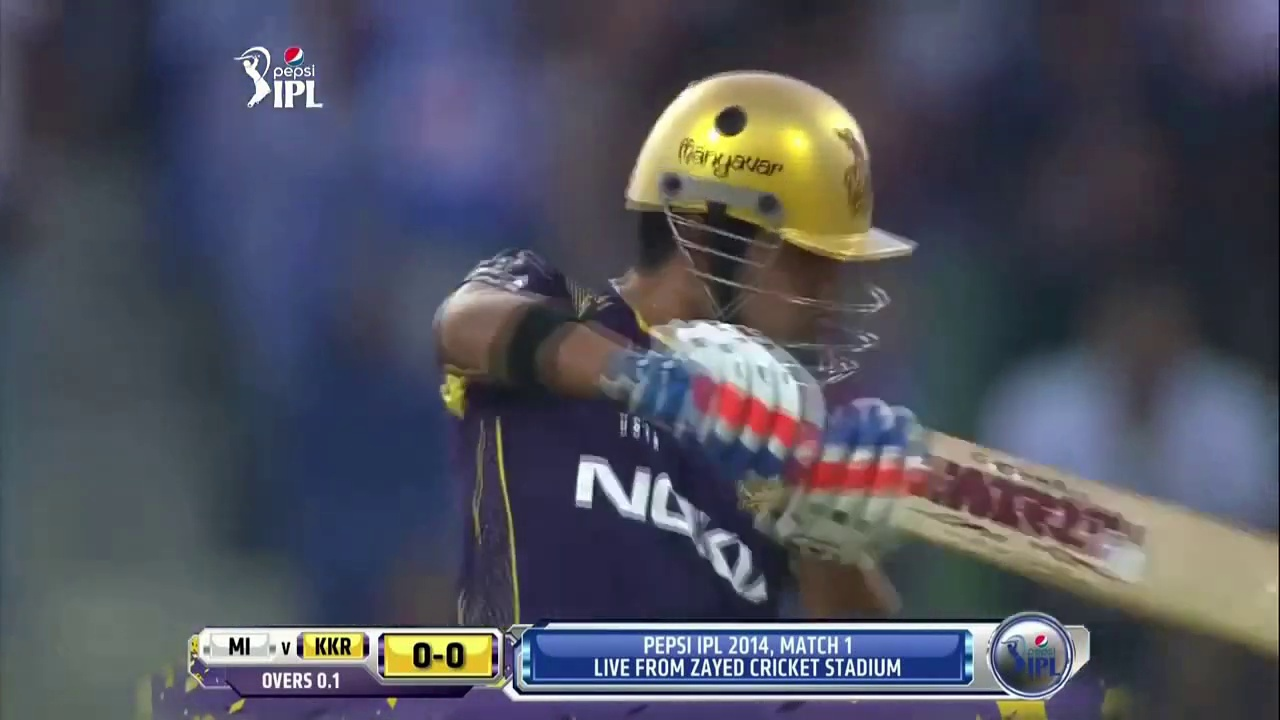bat: (929, 425, 1278, 609)
